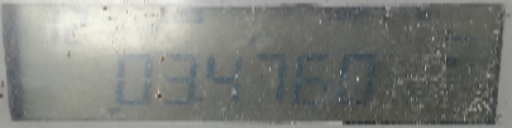0: (332, 46, 380, 114), (113, 43, 157, 112)
3: (157, 39, 197, 111)
4: (205, 43, 247, 110)
6: (289, 47, 334, 113)
7: (253, 44, 289, 110)
d: (193, 98, 206, 109)
